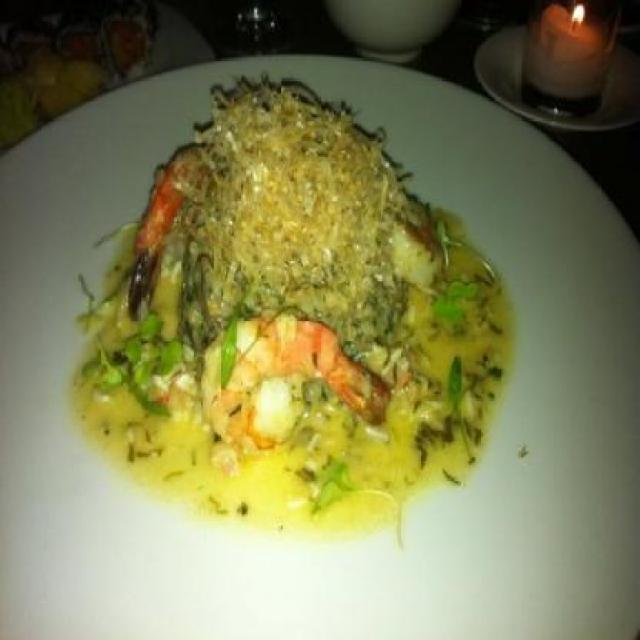Risotto: (98, 89, 470, 488)
